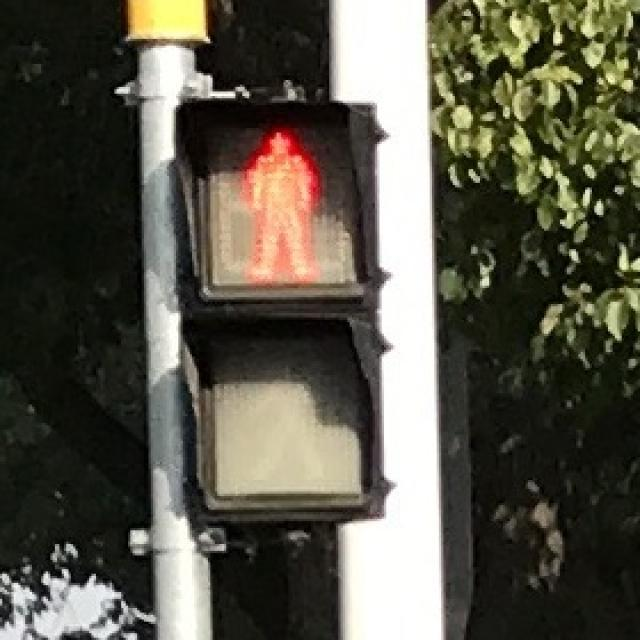red_light: (196, 107, 362, 290)
